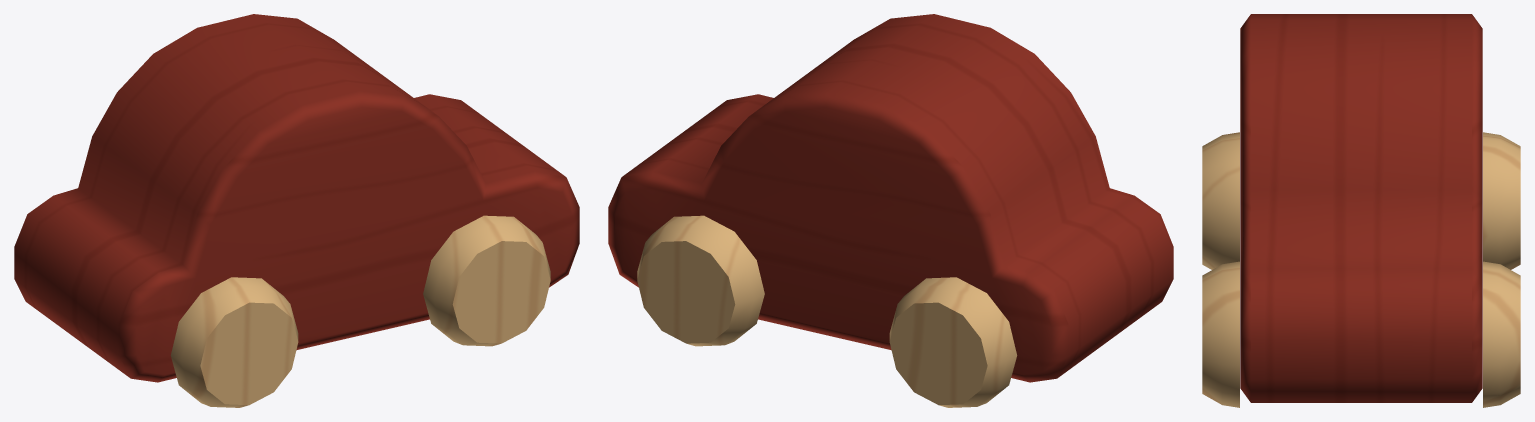
File: Car_fbx.fbx
3 views of the same model, side by side, from view 1: azimuth 30°, elevation 25°; view 2: azimuth 150°, elevation 25°; view 3: azimuth 270°, elevation 25° (orthographic). The views are drawn at different scales.
Parts seen in each view (by area): view 1: Car; view 2: Car; view 3: Car.
Part boxes in pixels (x1,y1,x2,y2): Car: [14, 14, 579, 407]; Car: [608, 14, 1173, 407]; Car: [1202, 14, 1520, 407].
Bounding box in the file's own units: 10.18 × 5.86 × 5.82.
